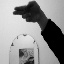h: (11, 1, 46, 23)
